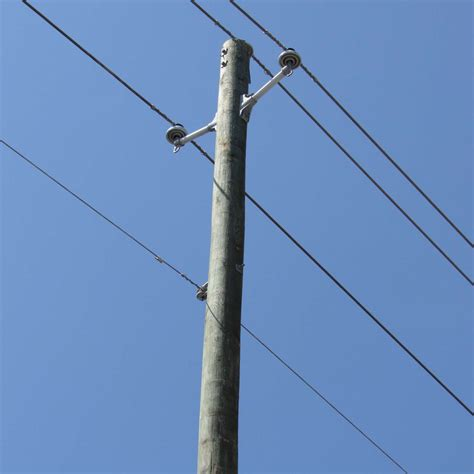pole: (153, 26, 312, 467)
